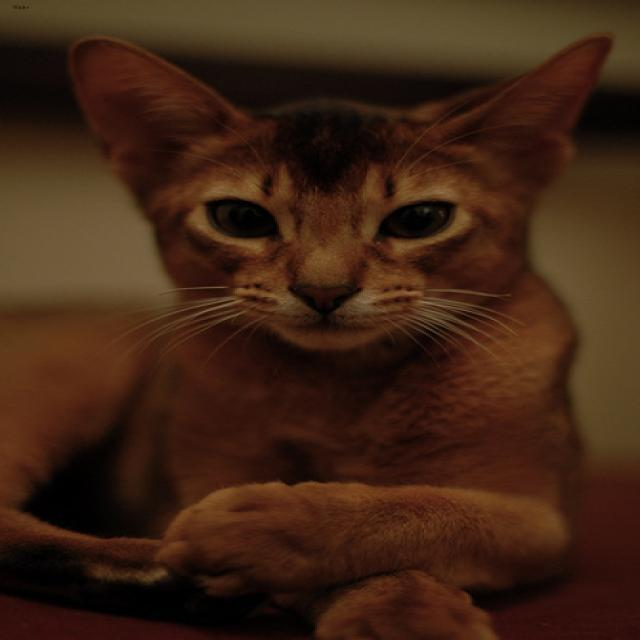Abyssinian: (54, 27, 621, 362)
